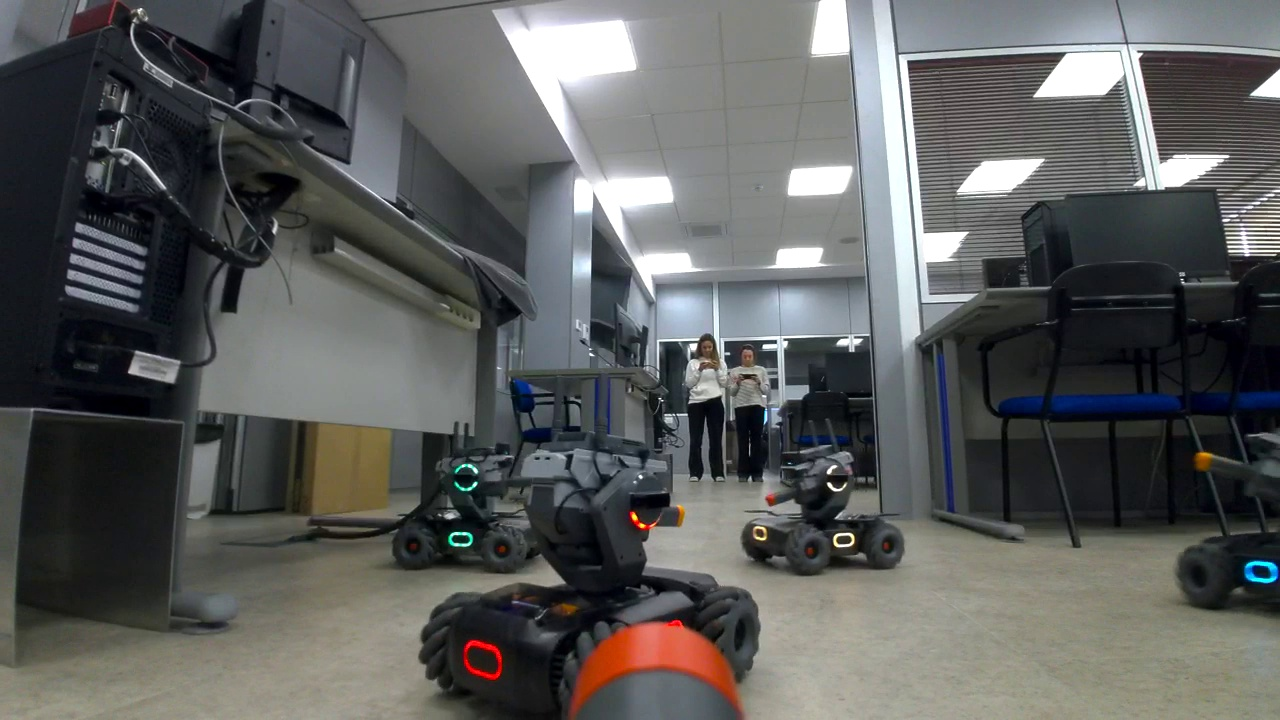robot: (421, 437, 760, 707), (739, 445, 906, 578), (1173, 432, 1277, 613), (386, 454, 523, 576)
